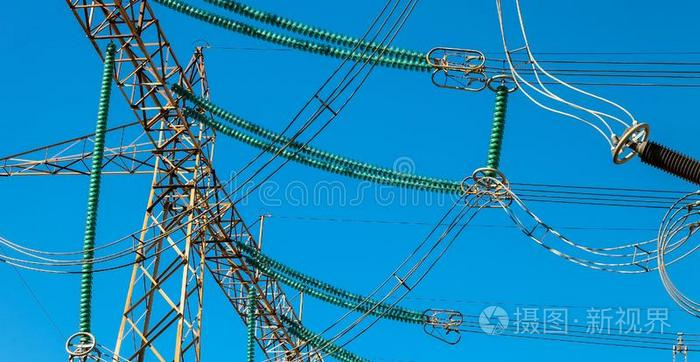insulator: (170, 85, 467, 195), (165, 1, 439, 74), (236, 240, 433, 326), (72, 44, 121, 345), (283, 318, 362, 361), (486, 85, 511, 174), (241, 286, 259, 359)
